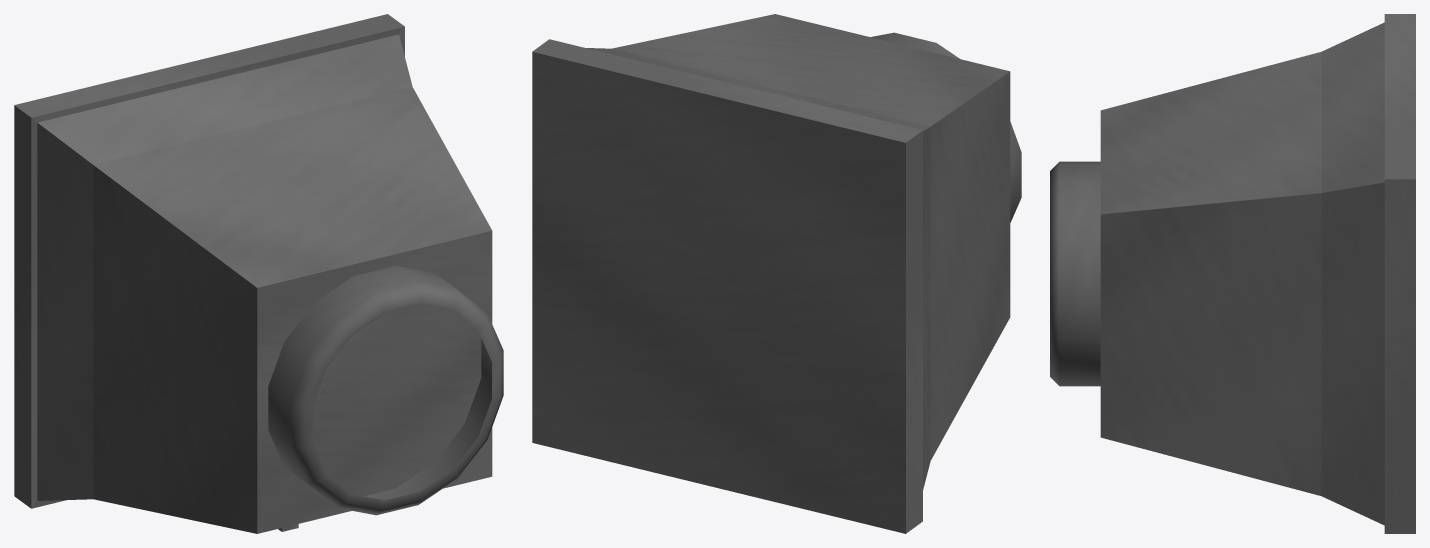
File: pedestalpole_base_n.obj
The picture shows the model from 3 angles, left to right: view 1: azimuth 30°, elevation 25°; view 2: azimuth 150°, elevation 25°; view 3: azimuth 270°, elevation 25°; orthographic projection. The views are drawn at different scales.
Visible parts, largest first — view 1: pedestalpole_base_n; view 2: pedestalpole_base_n; view 3: pedestalpole_base_n.
Part boxes in pixels (box(x1,y1,x2,y2)): pedestalpole_base_n: box(14, 14, 503, 533); pedestalpole_base_n: box(532, 14, 1021, 533); pedestalpole_base_n: box(1050, 14, 1415, 533).
Bounding box in the file's own units: 0.775 × 0.775 × 0.7244.
